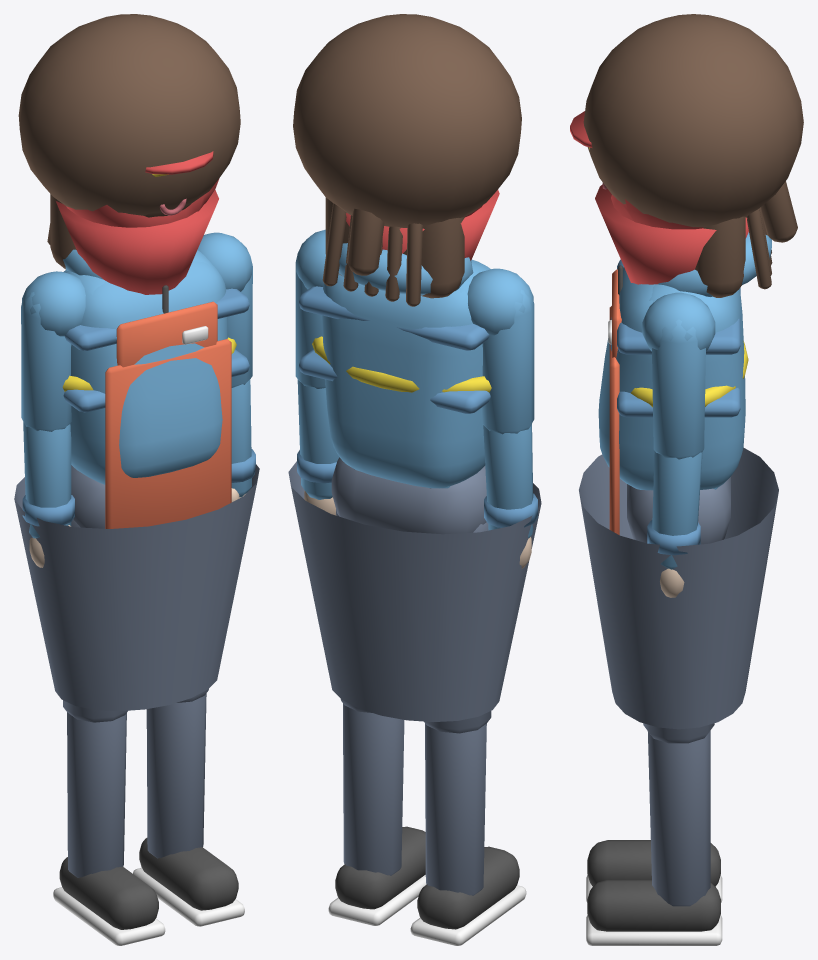
File: characters.glb
The picture shows the model from 3 angles, left to right: view 1: azimuth 30°, elevation 25°; view 2: azimuth 150°, elevation 25°; view 3: azimuth 270°, elevation 25°; orthographic projection. The views are drawn at different scales.
Parts seen in each view (by area): view 1: hips__skirt, head__hair_afro, chest__chest_big, spine__apron, head__hat_foulard, kneeR__shin, kneeL__shin, footR__shoe, footL__shoe, shoulderR__upperarm, chest__apron_bib, elbowR__forearm (+11 smaller); view 2: head__hair_afro, hips__skirt, chest__chest_big, kneeR__shin, kneeL__shin, hips__hips_f, footR__shoe, shoulderR__upperarm, footL__shoe, chest__puffer, head__hair_tresses, elbowR__forearm (+12 smaller); view 3: head__hair_afro, hips__skirt, chest__chest_big, kneeL__shin, footL__shoe, shoulderL__upperarm, head__hat_foulard, elbowL__forearm, chest__puffer, footR__shoe, head__hair_long, hips__hips_f (+10 smaller).
Boxes of the visible parts, box(x1,y1,x2,y2) form: hips__skirt: box(14, 464, 259, 711); head__hair_afro: box(18, 14, 240, 215); chest__chest_big: box(63, 260, 227, 484); spine__apron: box(105, 339, 231, 528); head__hat_foulard: box(56, 178, 219, 294); kneeR__shin: box(67, 712, 126, 877); kneeL__shin: box(146, 693, 206, 858); footR__shoe: box(53, 857, 165, 945); footL__shoe: box(133, 838, 244, 926); shoulderR__upperarm: box(21, 292, 71, 431); chest__apron_bib: box(116, 301, 217, 367); elbowR__forearm: box(23, 422, 71, 538); head__hair_afro: box(293, 14, 521, 227); hips__skirt: box(288, 461, 541, 721); chest__chest_big: box(322, 259, 490, 488); kneeR__shin: box(425, 723, 486, 895); kneeL__shin: box(343, 703, 404, 875); hips__hips_f: box(331, 457, 486, 534); footR__shoe: box(410, 846, 526, 945); shoulderR__upperarm: box(482, 289, 534, 434); footL__shoe: box(328, 826, 426, 925); chest__puffer: box(299, 286, 490, 413); head__hair_tresses: box(322, 203, 422, 306); elbowR__forearm: box(483, 424, 533, 538); head__hair_afro: box(583, 14, 803, 227); hips__skirt: box(579, 448, 778, 729); chest__chest_big: box(598, 267, 745, 490); kneeL__shin: box(647, 731, 710, 906); footL__shoe: box(586, 880, 722, 945); shoulderL__upperarm: box(652, 319, 705, 459); head__hat_foulard: box(595, 184, 748, 284); elbowL__forearm: box(652, 451, 702, 569); chest__puffer: box(617, 259, 740, 417); footR__shoe: box(586, 840, 722, 902); head__hair_long: box(695, 216, 745, 297); hips__hips_f: box(627, 477, 730, 544).
Bounding box in the file's own units: 0.5406 × 1.99 × 0.4726.
